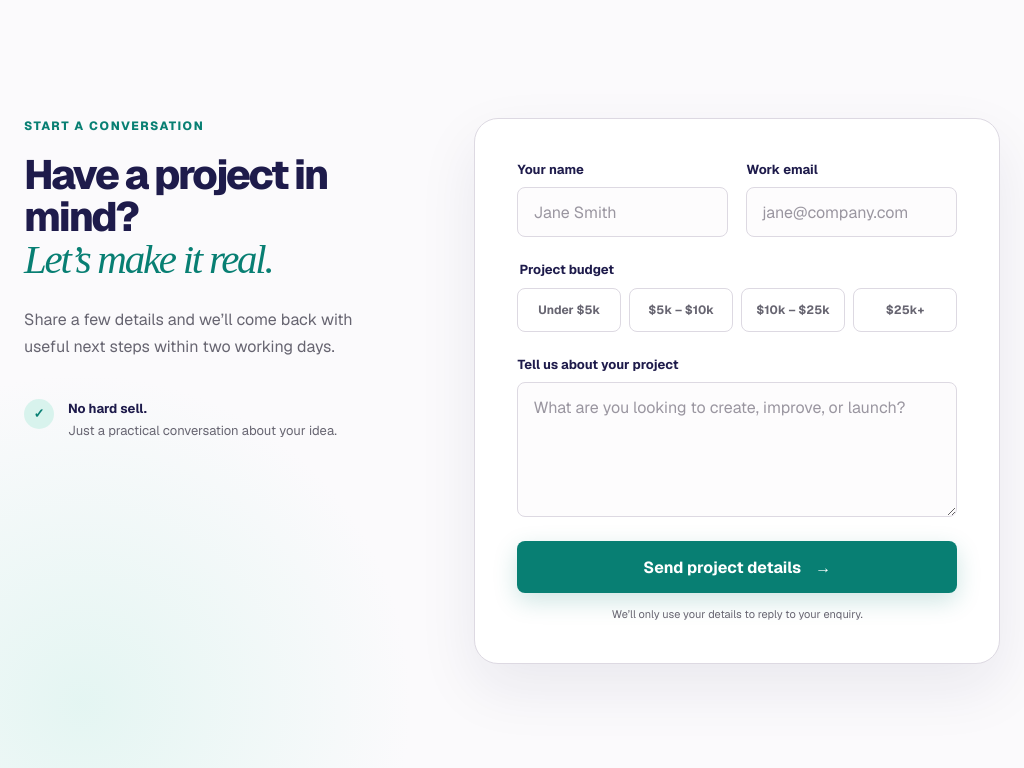
it: contact form states › uses shared validation errors and focuses the first invalid field
Click the button "Send project details →": (737, 567) [517, 541, 957, 593]
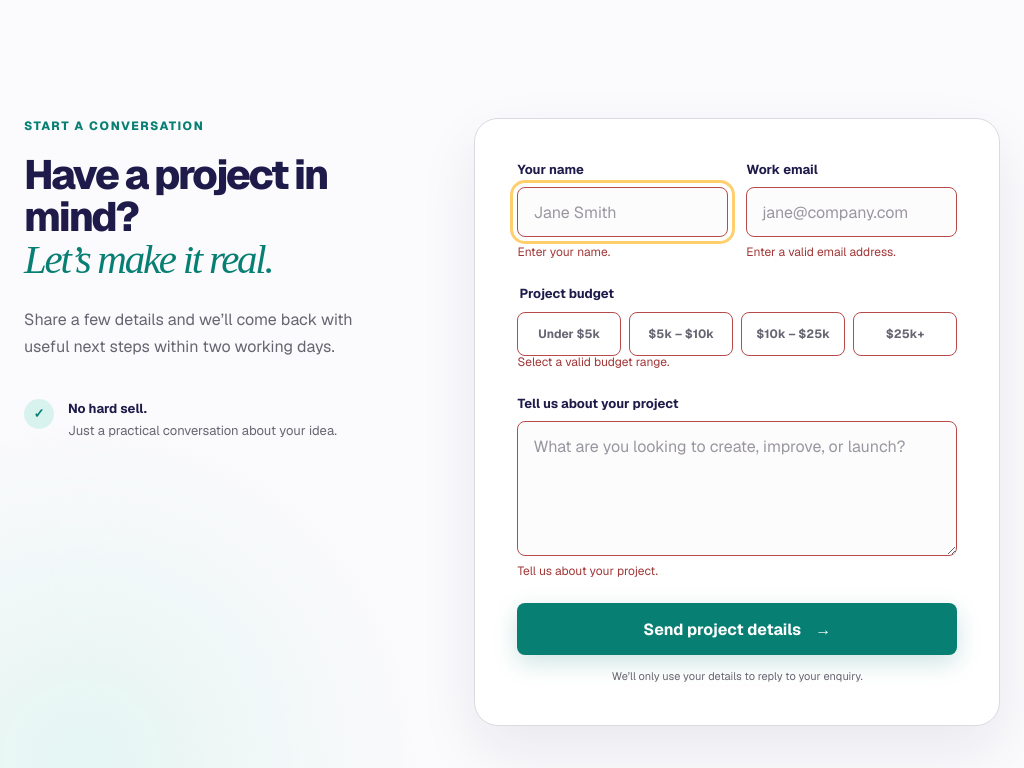
Result: the text "Enter your name." is shown at [517, 244, 610, 260]
Result: the text "Enter a valid email address." is shown at [746, 244, 896, 260]
